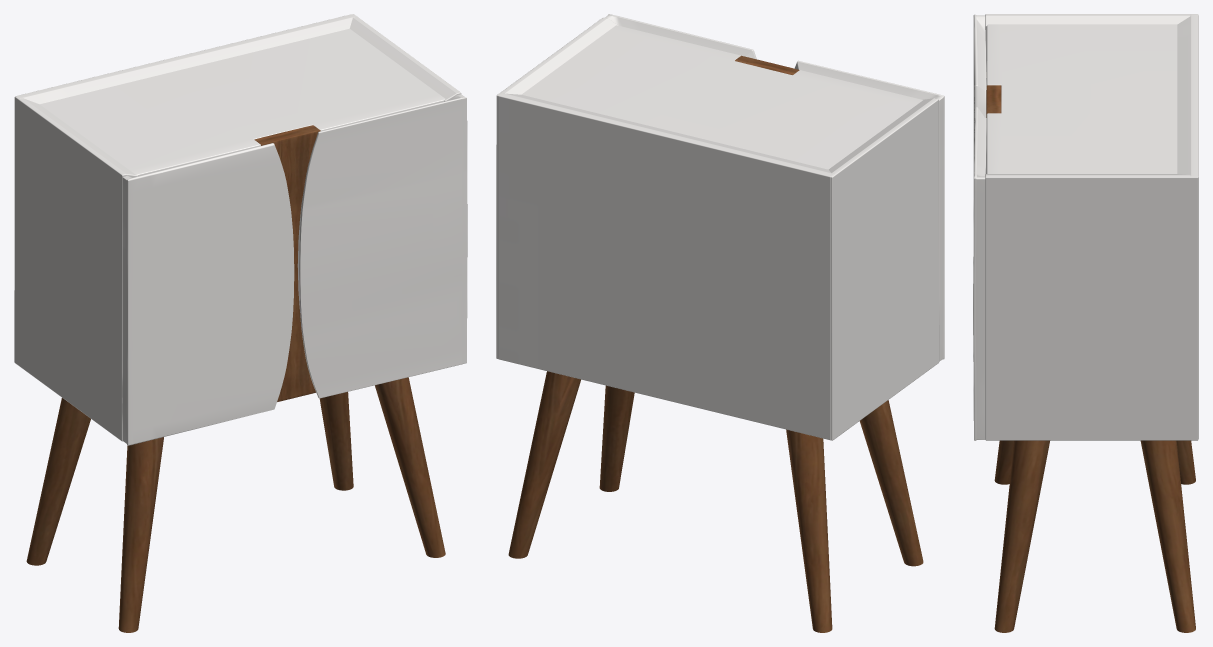
Rendered from abo-B072ZK8897.glb.
The picture shows the model from 3 angles, left to right: view 1: azimuth 30°, elevation 25°; view 2: azimuth 150°, elevation 25°; view 3: azimuth 270°, elevation 25°; orthographic projection.
Bounding box in the file's own units: 0.591 × 0.772 × 0.344.
Materials: 1 (1 with a texture image).
